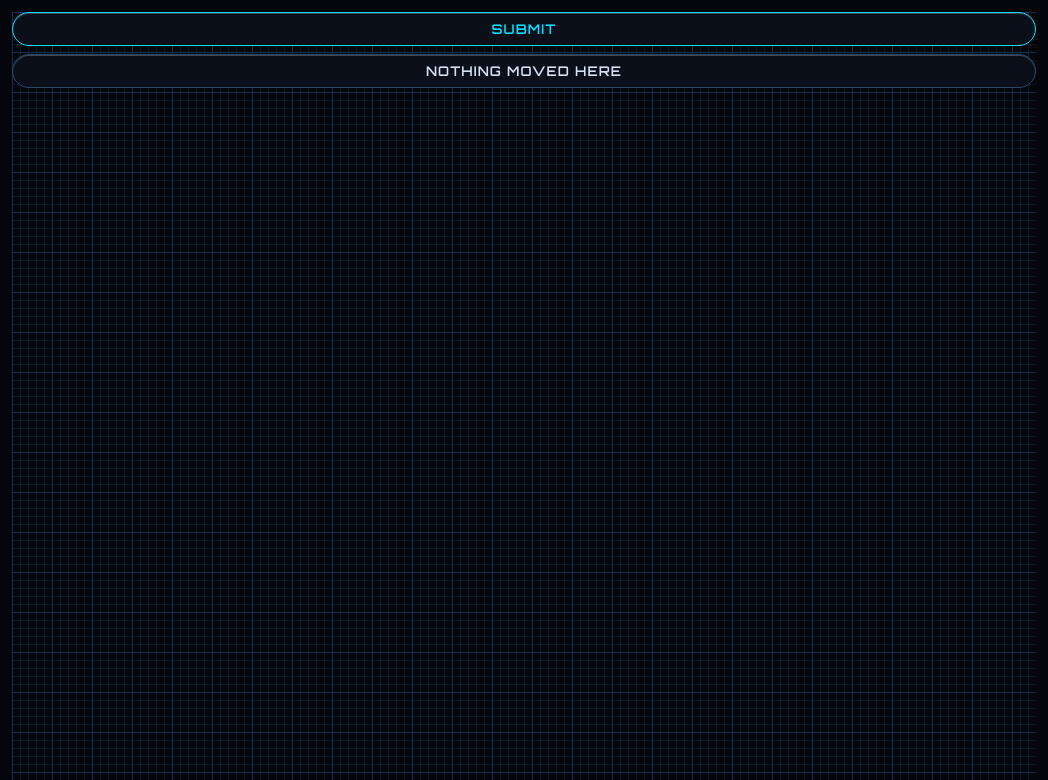
Scenario: SubmitBar › shows the server's not_found message, not the offline text
What coordinates should you click on to do the following:
click the button "Submit"
I would click on:
 (524, 29)
Its box is [12,12,1036,46].
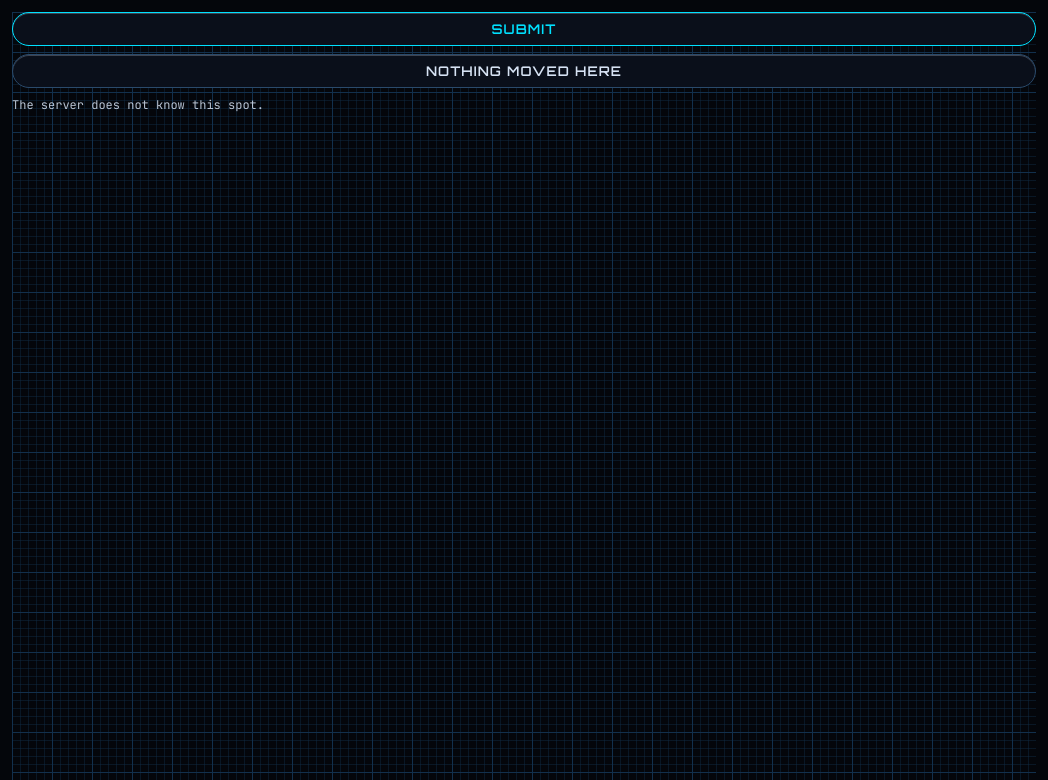
Expected: the text "The server does not know this spot." is shown, [12,97,264,113]
